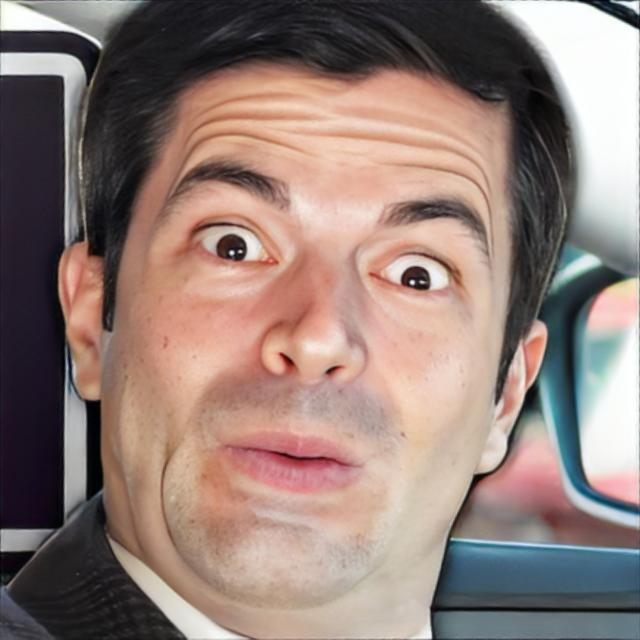Fear: (106, 54, 508, 613)
